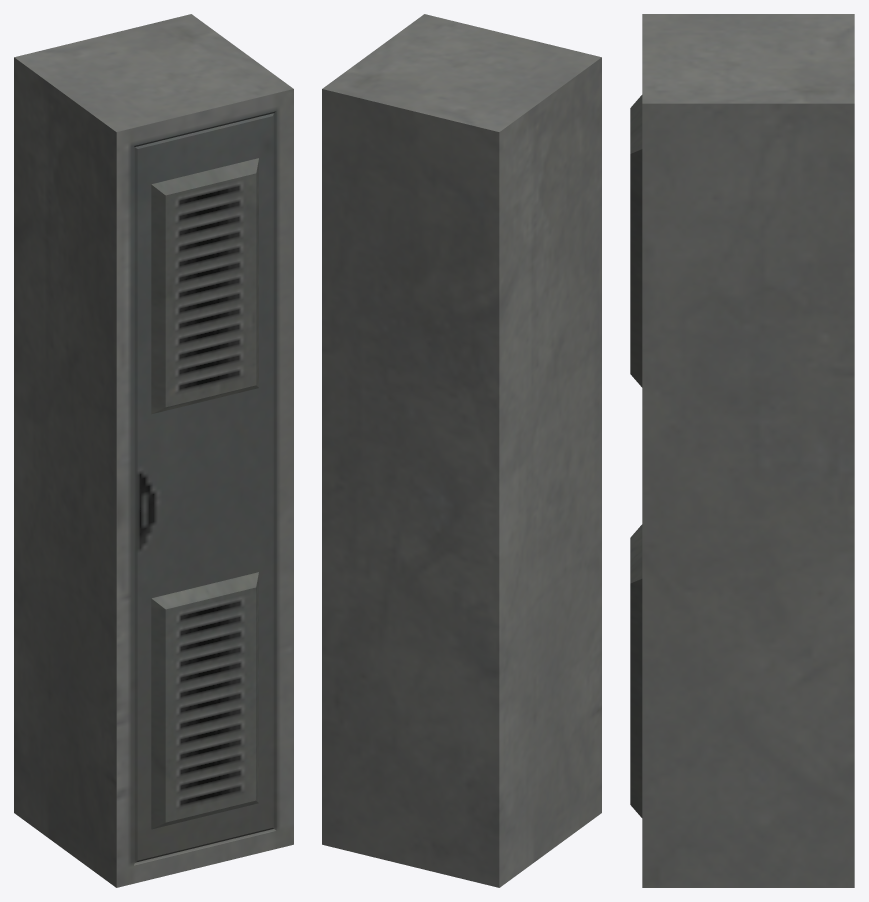
Rendered from Locker.fbx.
3 renders of one model, left to right at view 1: azimuth 30°, elevation 25°; view 2: azimuth 150°, elevation 25°; view 3: azimuth 270°, elevation 25°, orthographic. The views are drawn at different scales.
Parts seen in each view (by area): view 1: Locker; view 2: Locker; view 3: Locker.
Boxes of the visible parts, left/top/right/bottom form: Locker: left=14, top=14, right=293, bottom=887; Locker: left=322, top=14, right=601, bottom=887; Locker: left=630, top=14, right=854, bottom=887.
Bounding box in the file's own units: 41.19 × 168 × 43.5.
